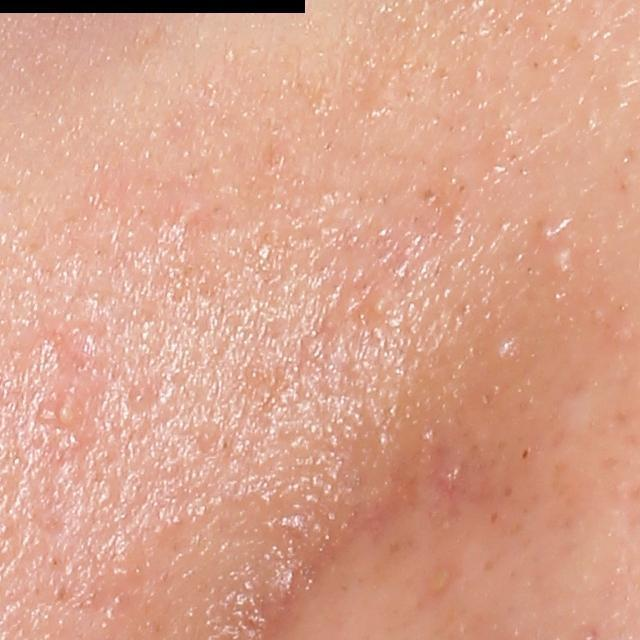comedo: (366, 293, 393, 318), (537, 218, 558, 242)
pustule: (36, 383, 92, 439)
